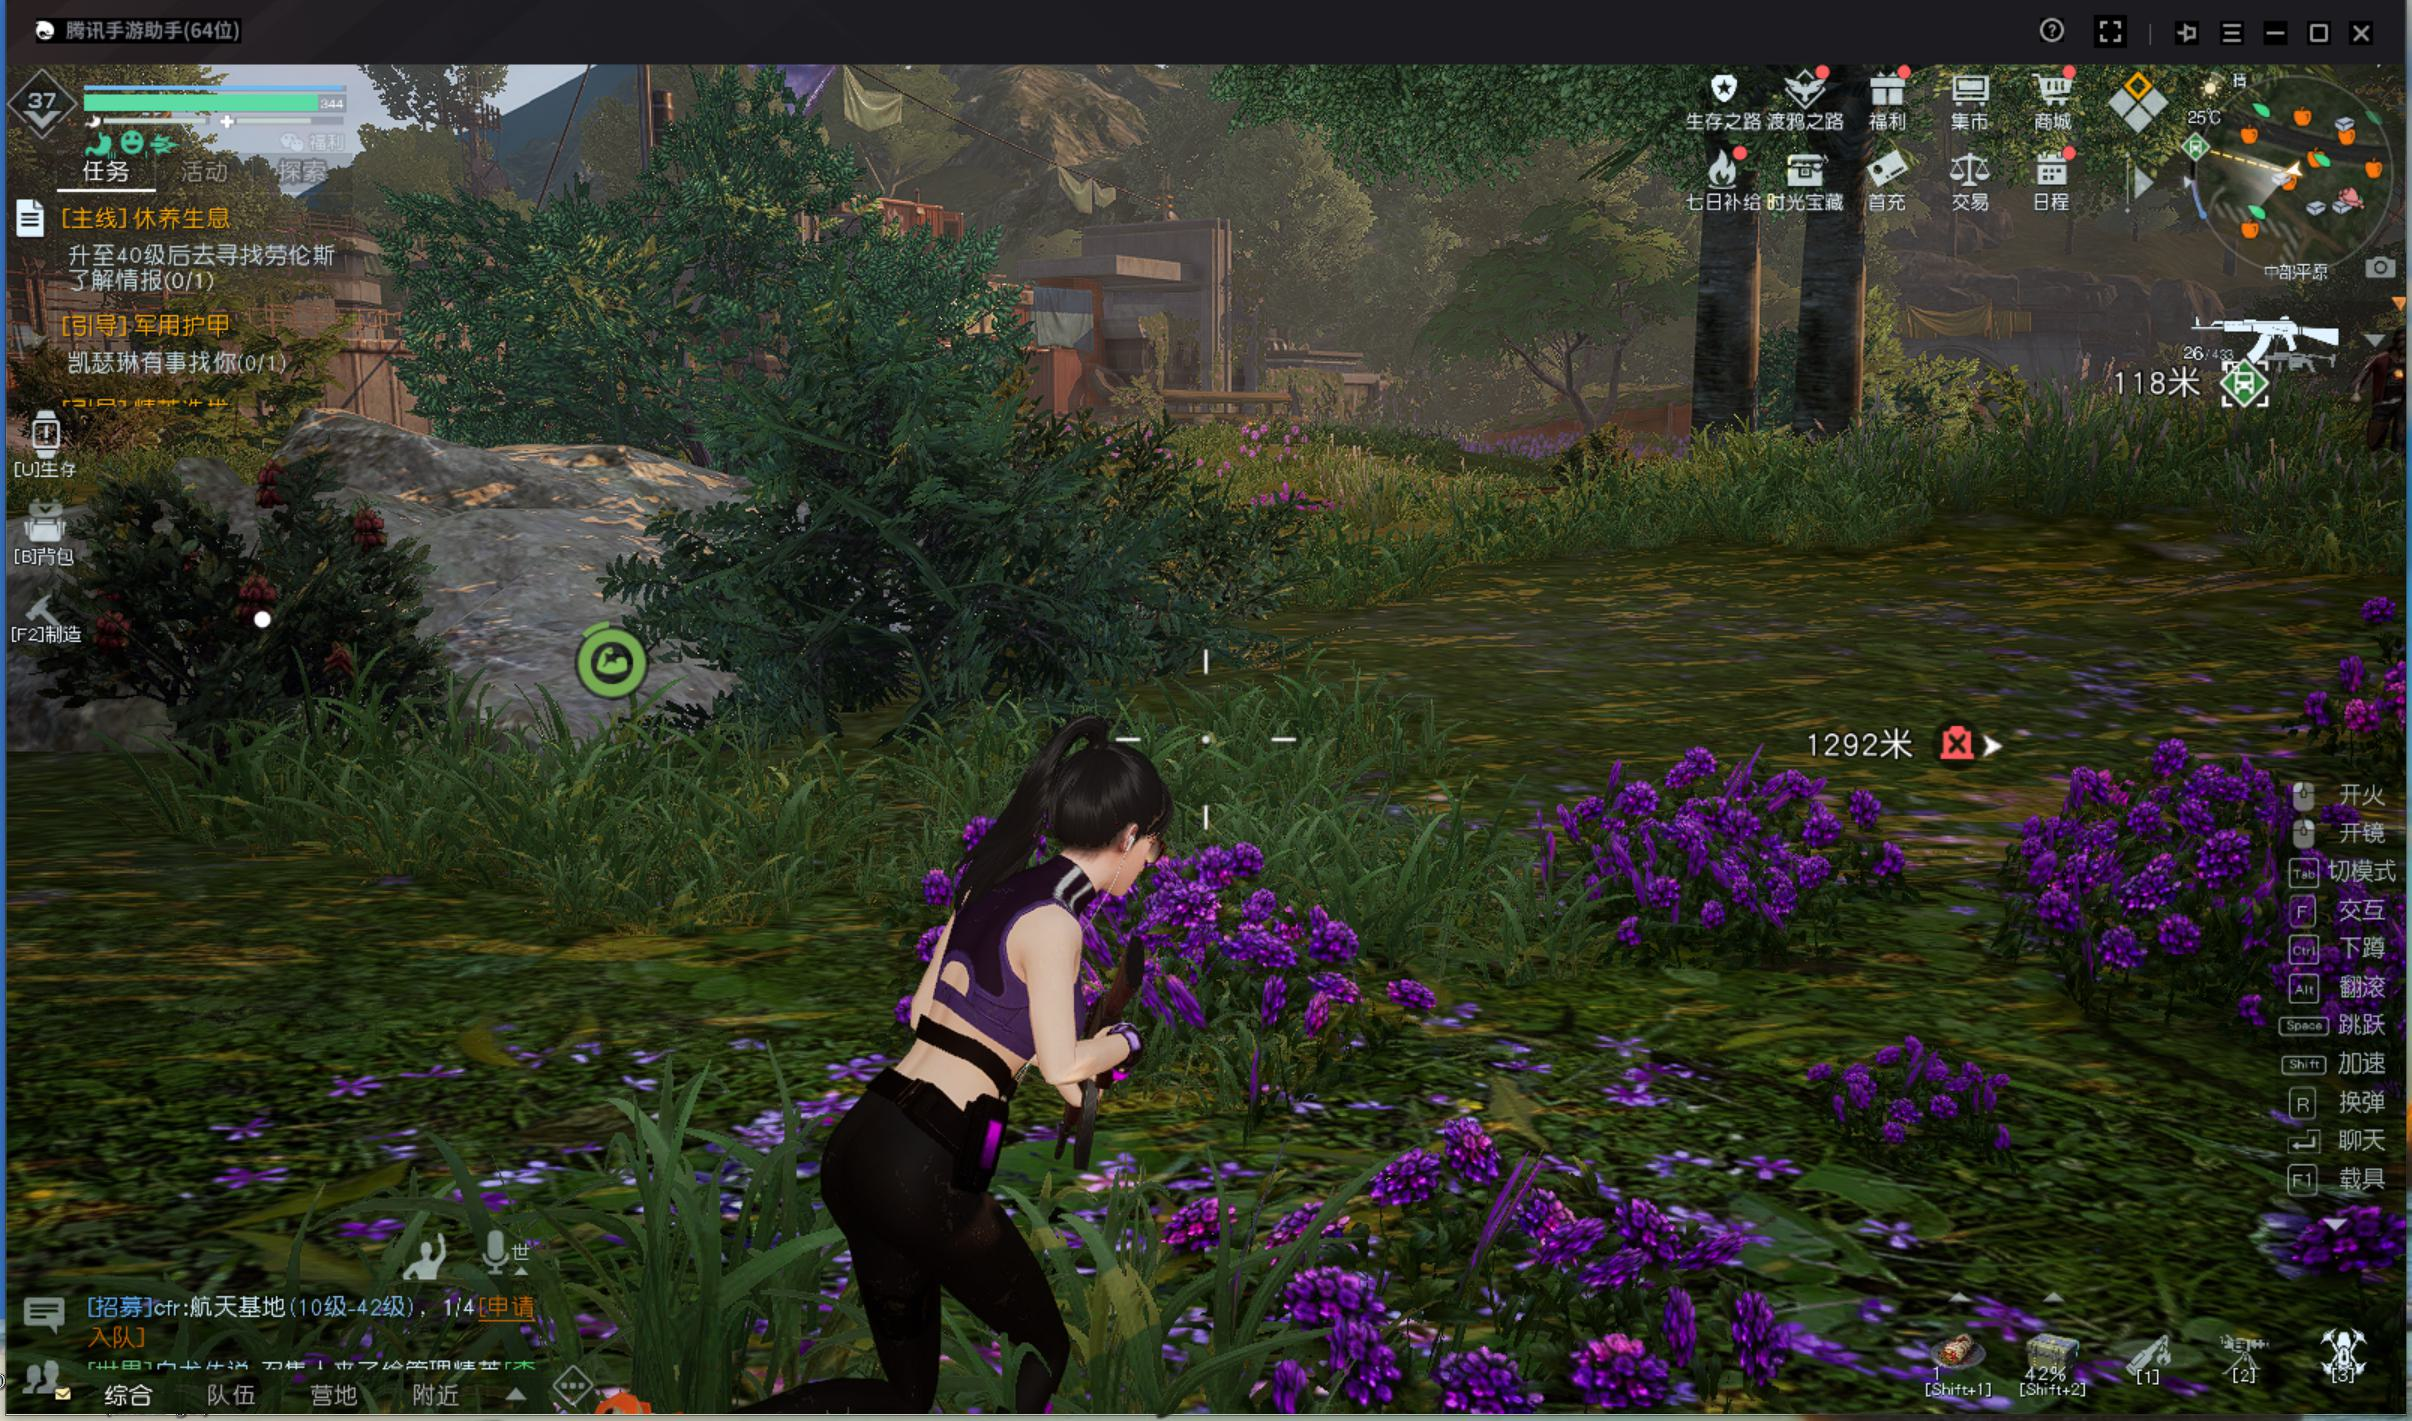tree: (1669, 237, 1771, 464), (1786, 237, 1878, 464)
